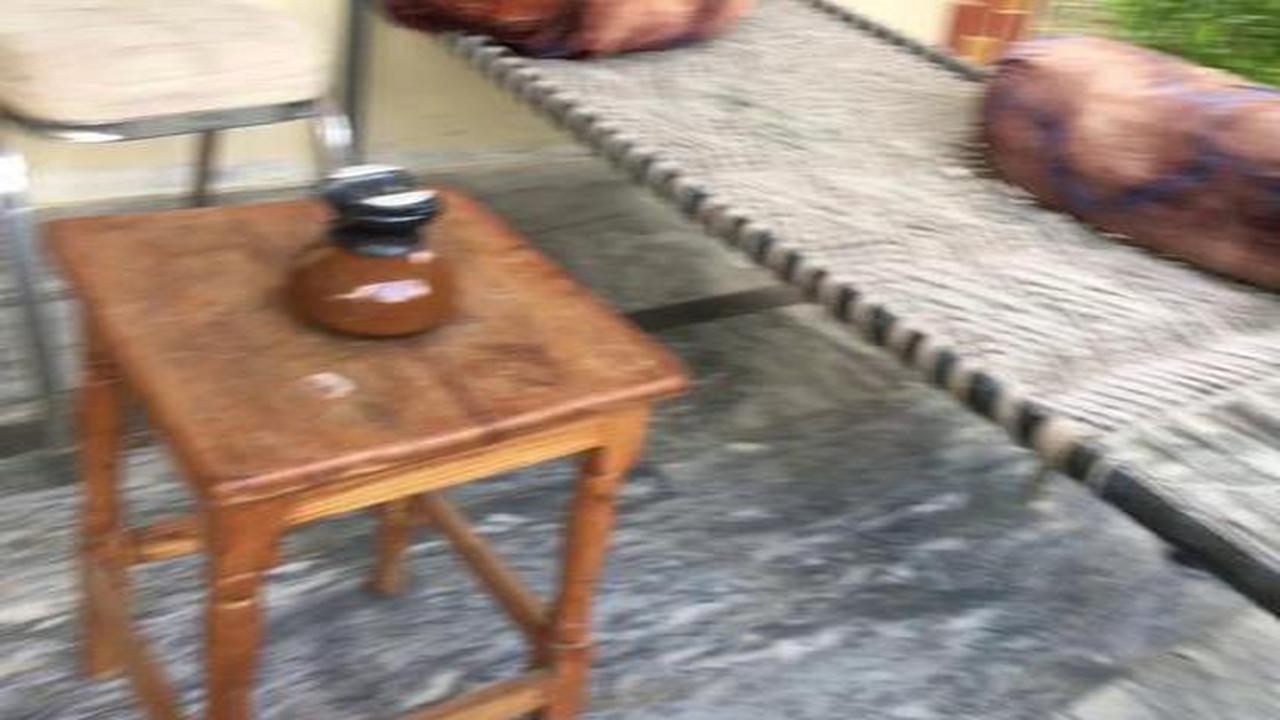insulator_pin: (265, 149, 484, 354)
